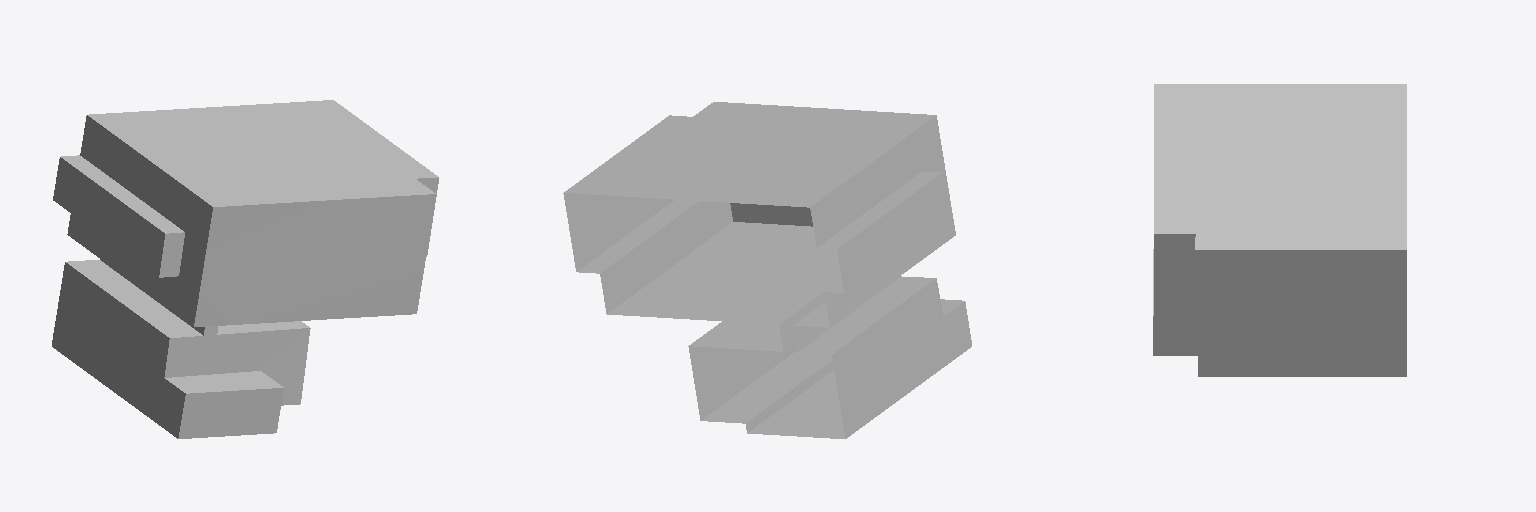
File: talo_Build0000058.obj
3 views of the same model, side by side, from view 1: azimuth 30°, elevation 25°; view 2: azimuth 150°, elevation 25°; view 3: azimuth 270°, elevation 25° (orthographic).
Bounding box in the file's own units: 20.88 × 17.06 × 16.29.